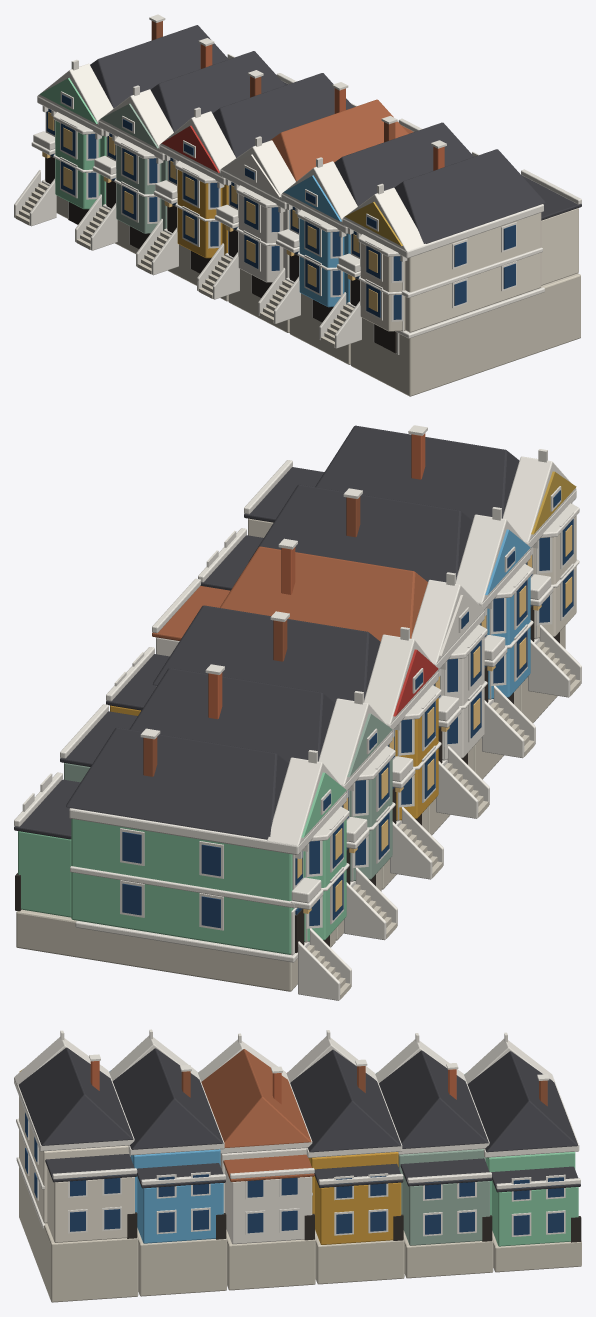
File: painted-ladies.glb
3 views of the same model, one above another, from view 1: azimuth 30°, elevation 25°; view 2: azimuth 150°, elevation 25°; view 3: azimuth 270°, elevation 25° (orthographic). The views are drawn at different scales.
Parts seen in each view (by area): view 1: h0_710_base, h0_710_body, h0_710_roof, h3_716_roof, h1_712_roof, h5_720_roof, h2_714_roof, h4_718_roof, h0_710_rear_wing, h0_710_gable, h0_710_bay, h3_716_gable (+28 smaller); view 2: h5_720_body, h5_720_roof, h3_716_roof, h1_712_roof, h2_714_roof, h4_718_roof, h0_710_roof, h5_720_base, h5_720_rear_wing, h5_720_gable, h5_720_cornice, h1_712_gable (+38 smaller); view 3: h0_710_roof, h3_716_roof, h1_712_roof, h5_720_roof, h0_710_base, h2_714_roof, h4_718_roof, h1_712_base, h2_714_base, h2_714_rear_wing, h0_710_rear_wing, h3_716_base (+36 smaller).
Boxes of the visible parts, bbox=[...] form: h0_710_base: bbox=[350, 273, 580, 396]; h0_710_body: bbox=[350, 212, 541, 332]; h0_710_roof: bbox=[394, 149, 545, 243]; h3_716_roof: bbox=[212, 73, 353, 157]; h1_712_roof: bbox=[334, 122, 473, 206]; h5_720_roof: bbox=[90, 25, 228, 108]; h2_714_roof: bbox=[270, 99, 408, 181]; h4_718_roof: bbox=[150, 51, 285, 132]; h0_710_rear_wing: bbox=[541, 208, 578, 285]; h0_710_gable: bbox=[343, 187, 425, 251]; h0_710_bay: bbox=[360, 243, 405, 331]; h3_716_gable: bbox=[160, 111, 235, 177]; h5_720_body: bbox=[71, 818, 303, 954]; h5_720_roof: bbox=[66, 727, 288, 839]; h3_716_roof: bbox=[152, 605, 380, 702]; h1_712_roof: bbox=[248, 484, 472, 582]; h2_714_roof: bbox=[220, 546, 427, 641]; h4_718_roof: bbox=[129, 668, 335, 762]; h0_710_roof: bbox=[315, 425, 519, 520]; h5_720_base: bbox=[16, 909, 335, 991]; h5_720_rear_wing: bbox=[18, 831, 71, 917]; h5_720_gable: bbox=[267, 757, 346, 845]; h5_720_cornice: bbox=[69, 792, 346, 854]; h1_712_gable: bbox=[456, 514, 530, 603]; h0_710_roof: bbox=[19, 1047, 133, 1145]; h3_716_roof: bbox=[290, 1049, 401, 1152]; h1_712_roof: bbox=[112, 1048, 223, 1149]; h5_720_roof: bbox=[467, 1051, 578, 1152]; h0_710_base: bbox=[19, 1167, 138, 1302]; h2_714_roof: bbox=[201, 1049, 311, 1148]; h4_718_roof: bbox=[379, 1050, 488, 1148]; h1_712_base: bbox=[137, 1228, 226, 1296]; h2_714_base: bbox=[226, 1229, 315, 1290]; h2_714_rear_wing: bbox=[225, 1167, 312, 1244]; h0_710_rear_wing: bbox=[47, 1167, 134, 1242]; h3_716_base: bbox=[315, 1230, 404, 1284].
Size of the model in its own units: 25.37 by 16.51 by 44.24.
